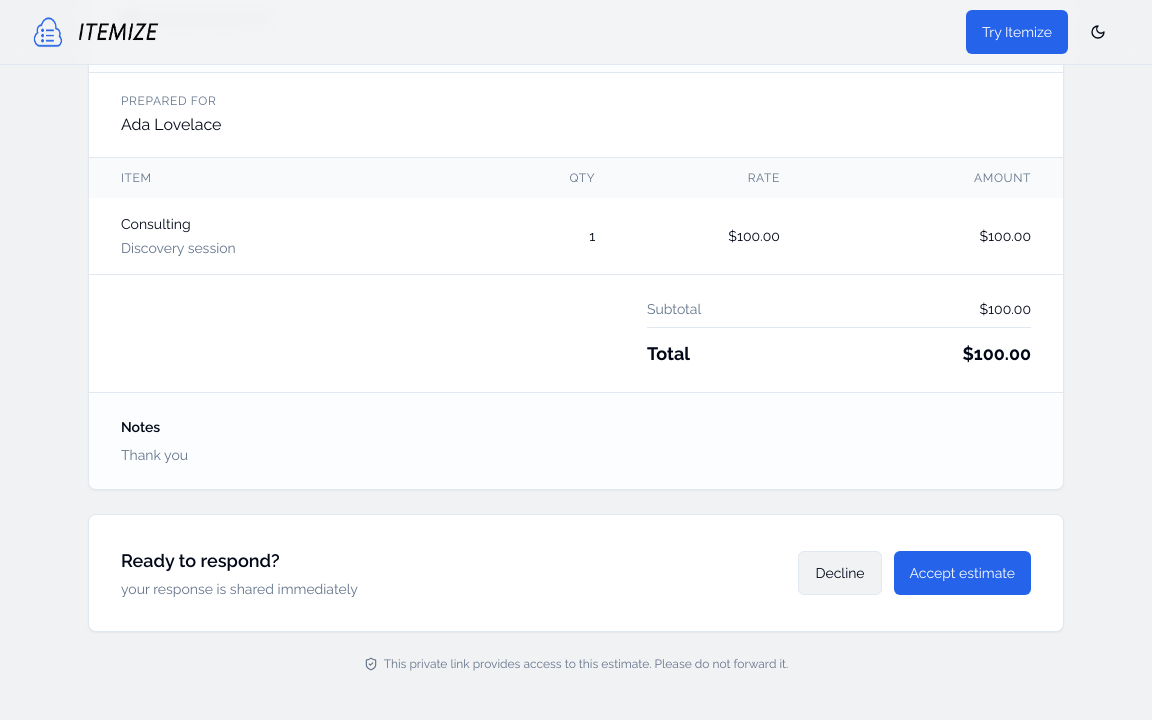
Test: PublicEstimatePage › keeps recipient acceptance behind explicit confirmation
The width and height of the screenshot is (1152, 720).
(page scrolled)
Click the button "Accept estimate" at (962, 573), box [894,551,1031,595]
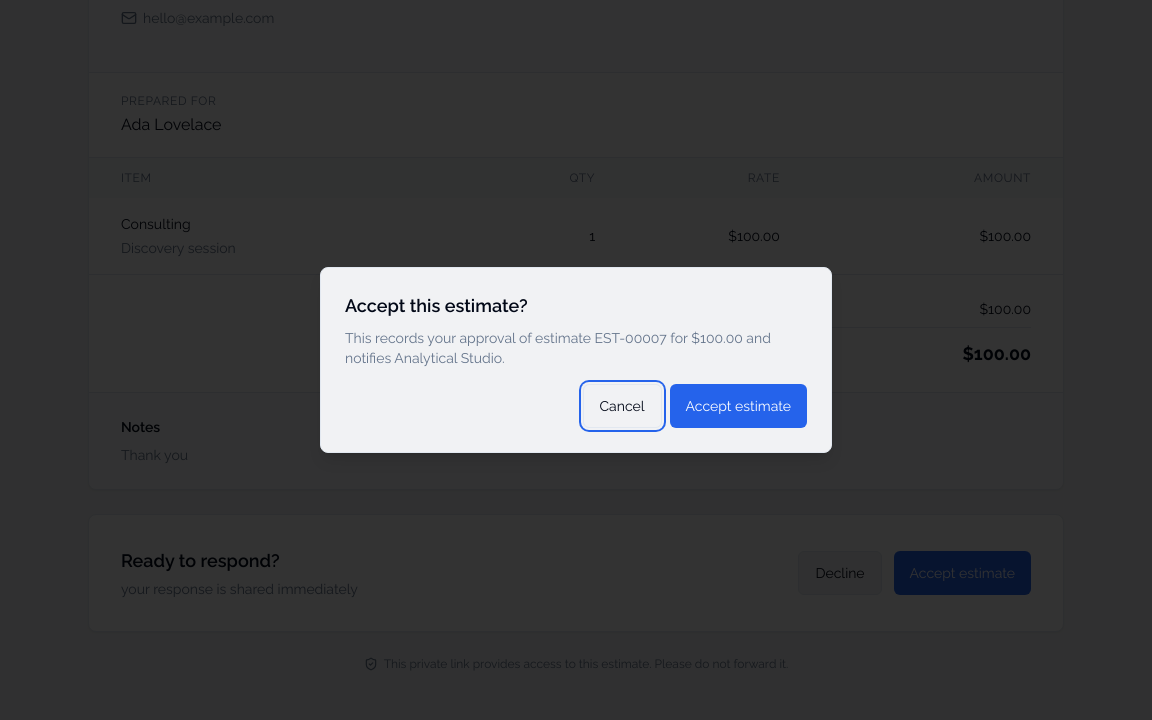
Now the dialog is shown, box [320,267,832,453]
Now the text "This records your approval of estimate EST-00007 for $100.00 and notifies Analytical Studio." is shown, box [345,330,771,366]
Click the button "Accept estimate" at (738, 406), box [670,384,807,428]
(page scrolled)
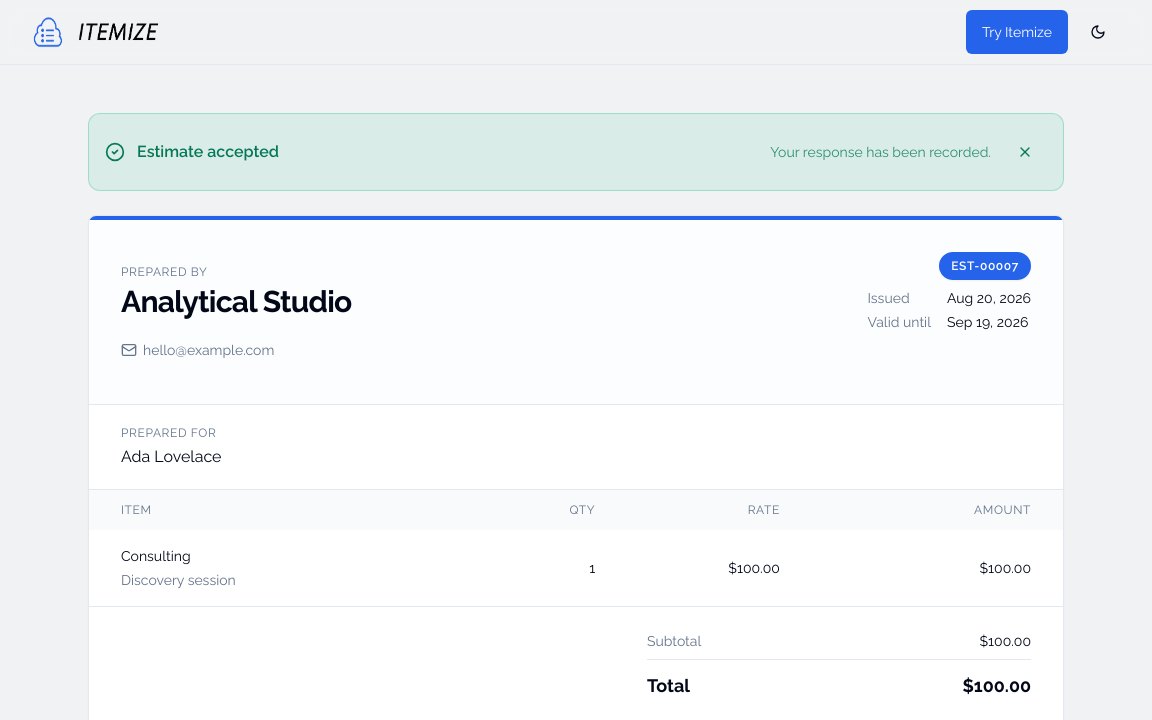
Now the text "Estimate accepted" is shown, box [137,140,279,164]
